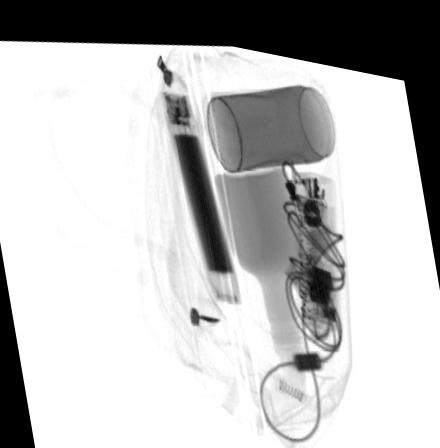Powerbank: (159, 84, 241, 296)
